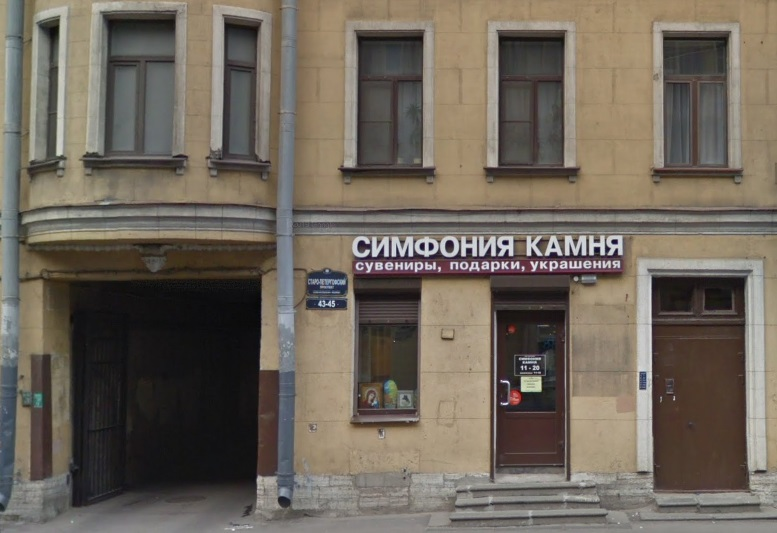arch: (39, 269, 260, 511)
door: (650, 324, 750, 489), (494, 312, 566, 468)
signboard: (348, 232, 625, 272)
window: (104, 14, 178, 156), (355, 31, 426, 168), (500, 35, 566, 166), (664, 36, 728, 168), (356, 299, 419, 415), (220, 22, 261, 161)
